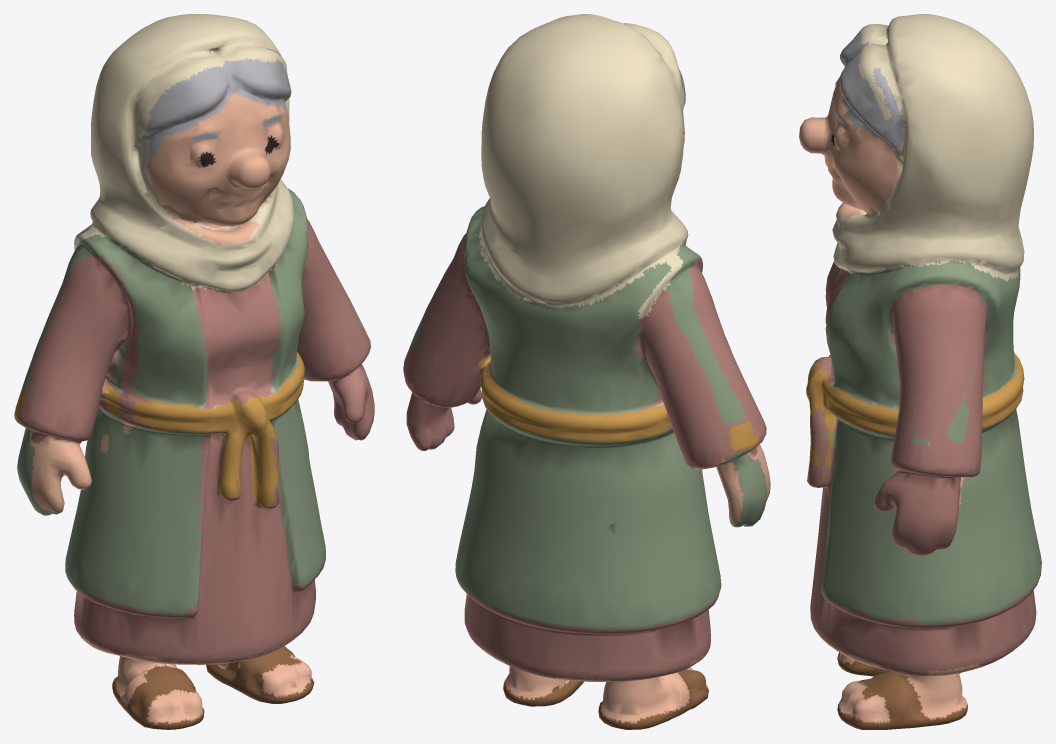
The model's file is wife.glb.
3 renders of one model, left to right at view 1: azimuth 30°, elevation 25°; view 2: azimuth 150°, elevation 25°; view 3: azimuth 270°, elevation 25°, orthographic.
Parts seen in each view (by area): view 1: wife; view 2: wife; view 3: wife.
Boxes of the visible parts, x1,y1,x2,y2 form: wife: [14, 14, 374, 729]; wife: [403, 14, 770, 729]; wife: [799, 14, 1041, 729].
Size of the model in its own units: 0.7886 by 1.45 by 0.4813.
Materials: 1 (1 with a texture image).
